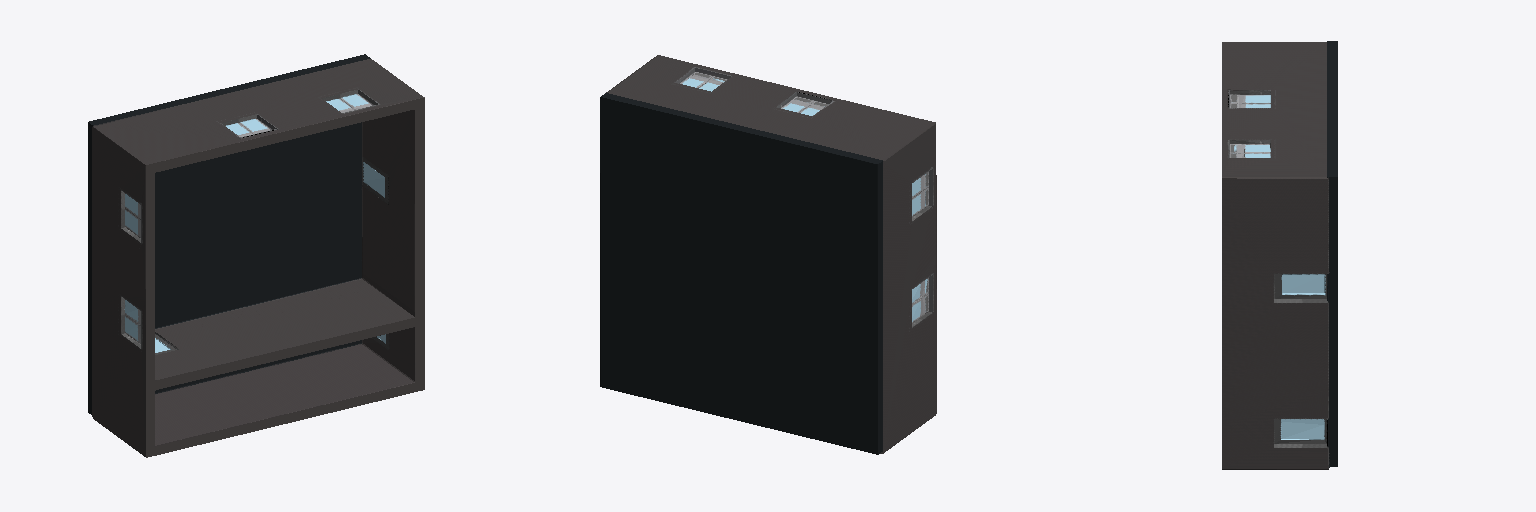
3 renders of one model, left to right at view 1: azimuth 30°, elevation 25°; view 2: azimuth 150°, elevation 25°; view 3: azimuth 270°, elevation 25°, orthographic.
Parts seen in each view (by area): view 1: SM_SM_ShopRoom; view 2: SM_SM_ShopRoom; view 3: SM_SM_ShopRoom.
Boxes of the visible parts, <box> form: SM_SM_ShopRoom: <box>88,54,424,457</box>; SM_SM_ShopRoom: <box>600,55,936,454</box>; SM_SM_ShopRoom: <box>1222,41,1337,469</box>.
Size of the model in its own units: 15.1 by 15.17 by 5.46.
Materials: 1 (1 with a texture image).